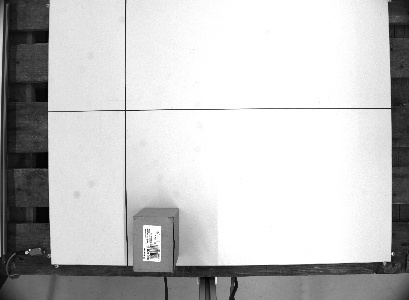b5: (130, 203, 180, 275)
